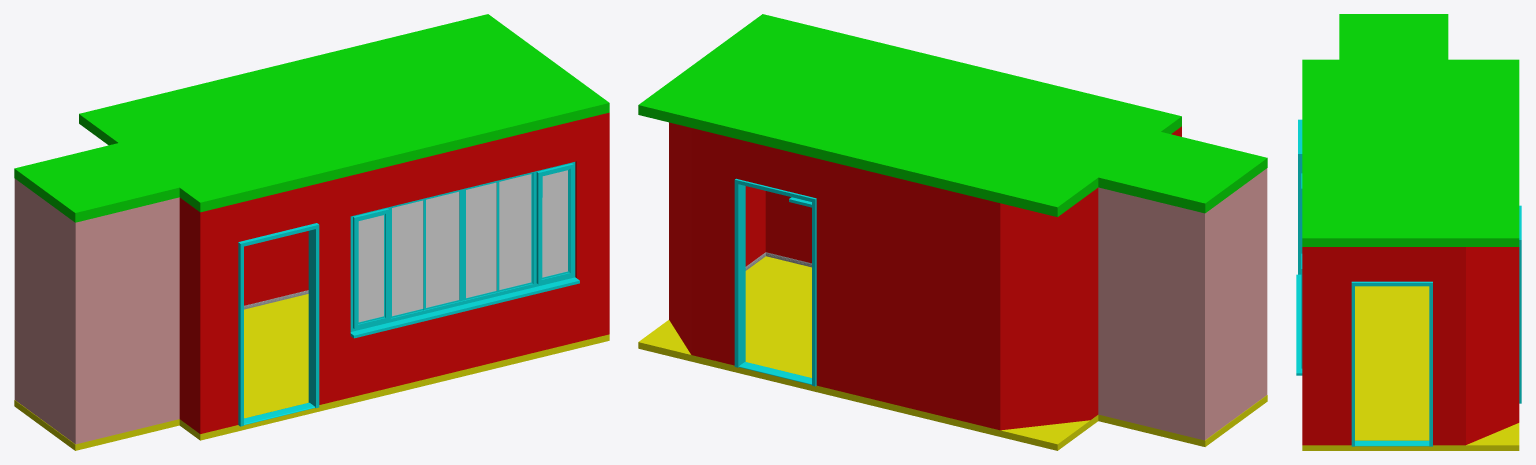
The model's file is FloorPlan510_physics.fbx.
The picture shows the model from 3 angles, left to right: view 1: azimuth 30°, elevation 25°; view 2: azimuth 150°, elevation 25°; view 3: azimuth 270°, elevation 25°; orthographic projection. The views are drawn at different scales.
Visible parts, largest first — view 1: FP510:Walls_1, FP510:Ceiling_1, FP510:Walls_2, FP510:WindowPane_1, FP510:Floor_1, FP510:WindowFrame_1, FP510:Ceiling_2, FP510:DoorFrame_1, FP510:Floor_2; view 2: FP510:Walls_1, FP510:Ceiling_1, FP510:Walls_2, FP510:Floor_1, FP510:Ceiling_2, FP510:DoorFrame_3, FP510:Floor_2; view 3: FP510:Ceiling_1, FP510:Walls_1, FP510:Floor_1, FP510:Ceiling_2, FP510:DoorFrame_2, FP510:WindowFrame_1, FP510:DoorFrame_1, FP510:DoorFrame_3, FP510:Floorboard_2.
Part boxes in pixels (x1,y1,x2,y2): FP510:Walls_1: [179, 112, 609, 433]; FP510:Ceiling_1: [79, 14, 609, 212]; FP510:Walls_2: [14, 179, 179, 444]; FP510:WindowPane_1: [358, 170, 567, 322]; FP510:Floor_1: [179, 294, 609, 440]; FP510:WindowFrame_1: [350, 162, 579, 338]; FP510:Ceiling_2: [14, 143, 179, 222]; FP510:DoorFrame_1: [238, 223, 319, 426]; FP510:Floor_2: [14, 400, 179, 450]; FP510:Walls_1: [669, 122, 1181, 430]; FP510:Ceiling_1: [638, 14, 1181, 216]; FP510:Walls_2: [1098, 168, 1267, 440]; FP510:Floor_1: [638, 256, 1098, 450]; FP510:Ceiling_2: [1098, 132, 1267, 213]; FP510:DoorFrame_3: [734, 178, 816, 386]; FP510:Floor_2: [1098, 395, 1267, 446]; FP510:Ceiling_1: [1302, 59, 1519, 246]; FP510:Walls_1: [1302, 247, 1519, 445]; FP510:Floor_1: [1302, 286, 1519, 450]; FP510:Ceiling_2: [1339, 14, 1448, 59]; FP510:DoorFrame_2: [1351, 281, 1432, 446]; FP510:WindowFrame_1: [1296, 173, 1302, 375]; FP510:DoorFrame_1: [1298, 119, 1302, 274]; FP510:DoorFrame_3: [1519, 205, 1521, 403]; FP510:Floorboard_2: [1355, 440, 1429, 446].
Bounding box in the file's own units: 610 × 268 × 258.
